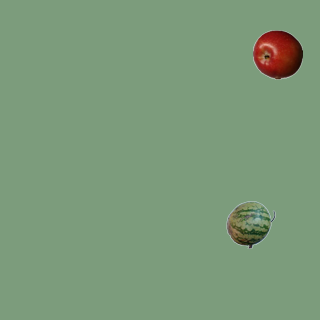Apple Braeburn: (252, 29, 302, 79)
Watermelon: (225, 199, 275, 249)
